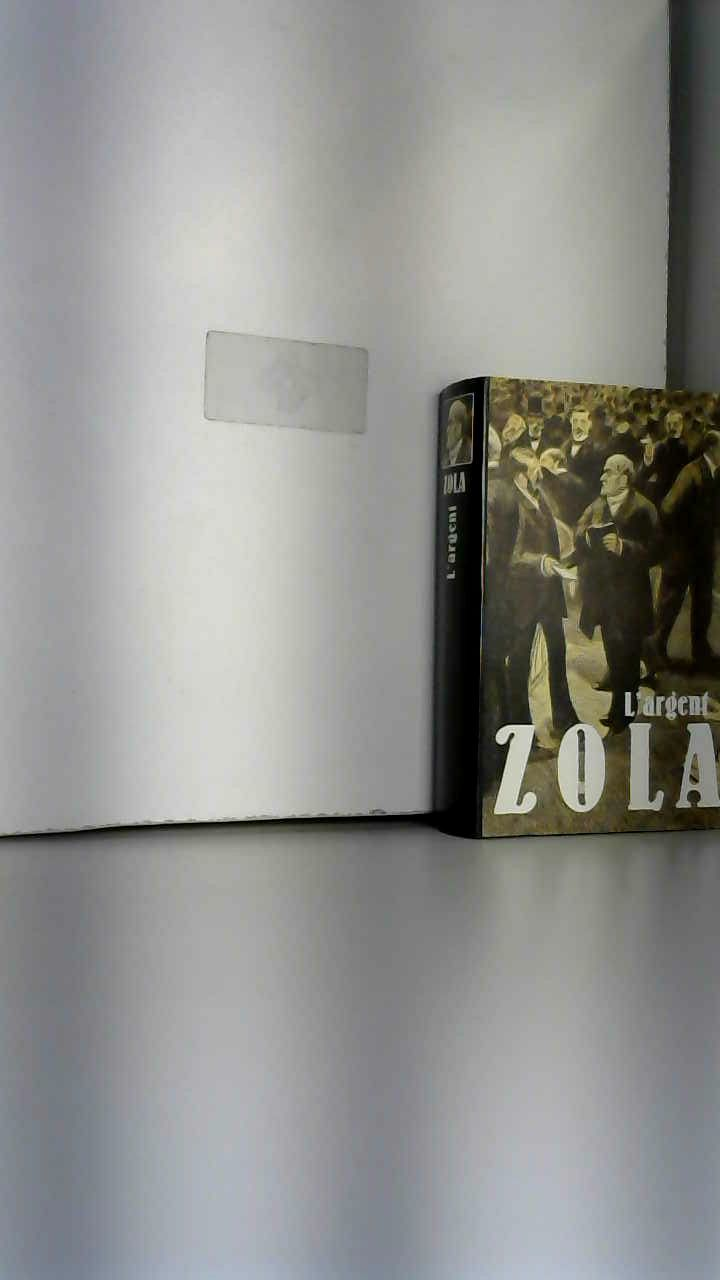book: (400, 350, 716, 863)
